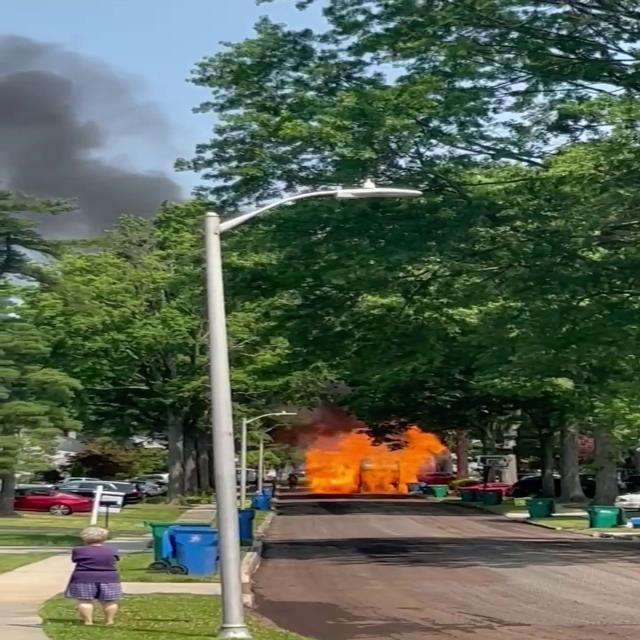Fire: (290, 419, 463, 497)
Smoke: (0, 15, 189, 238)
